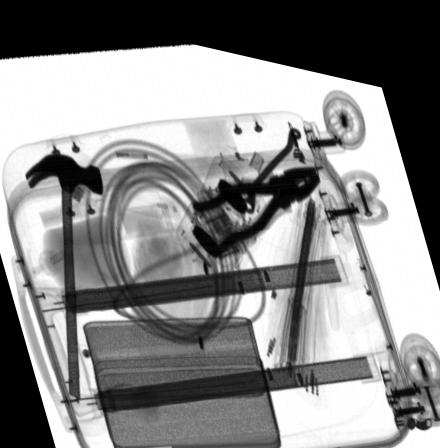Hammer: (22, 151, 101, 399)
Pliers: (188, 152, 322, 242)
Wrench: (239, 111, 301, 202)
